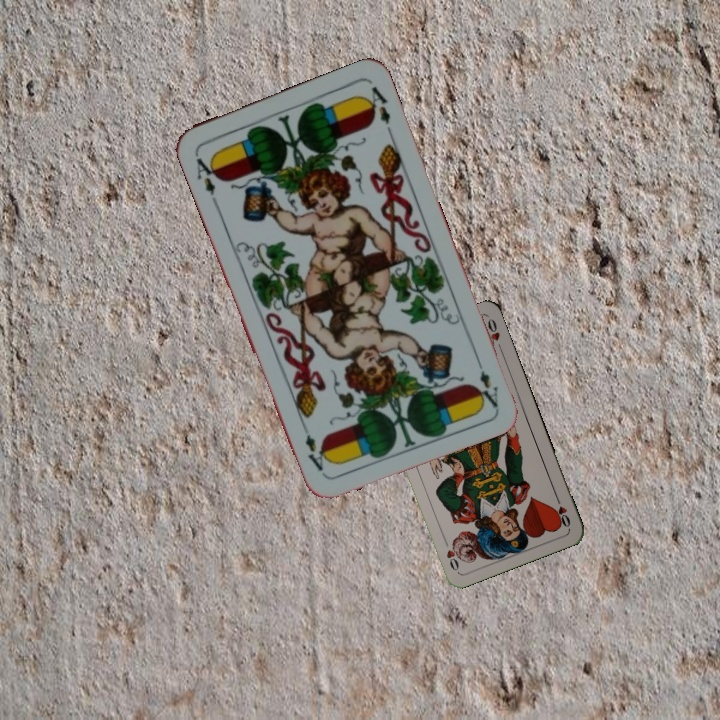EA: (471, 352, 501, 410), (191, 154, 223, 206)
HO: (551, 491, 573, 530)
